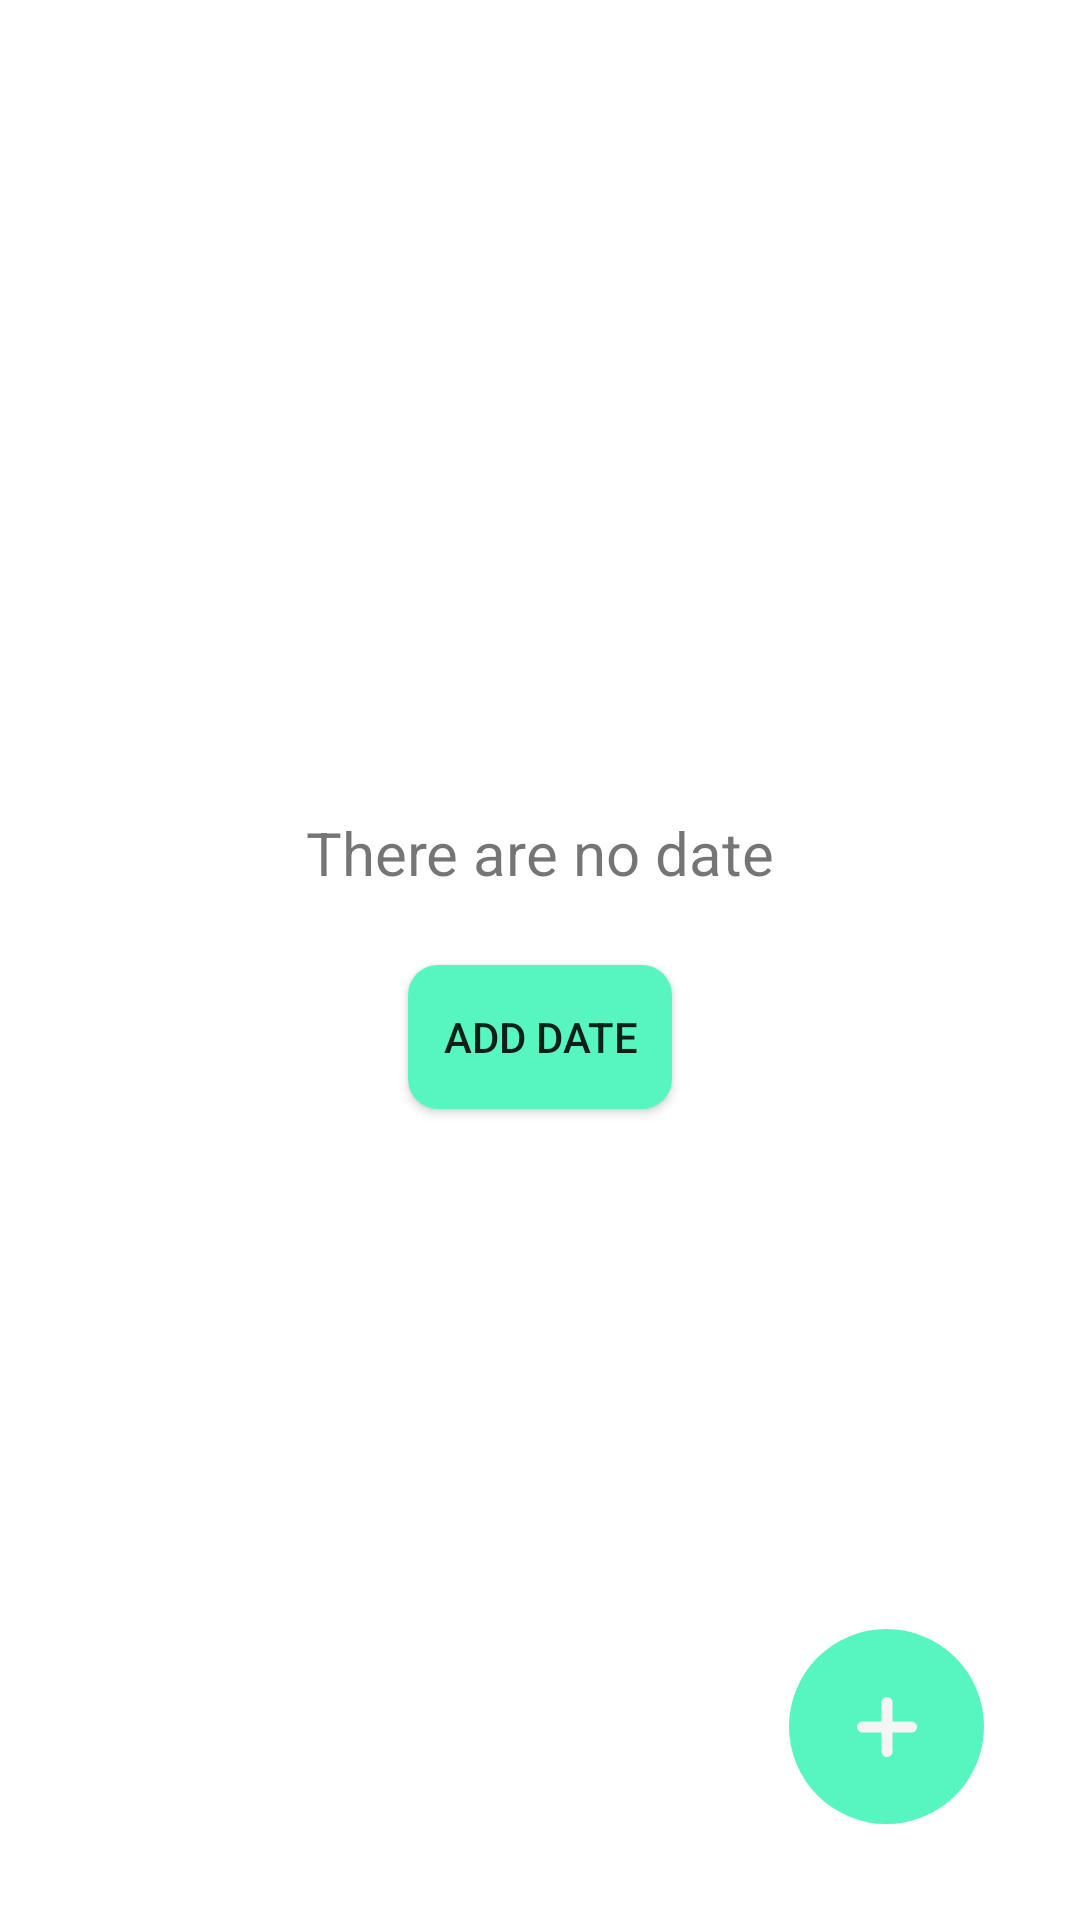

Locate icon controls on the screen. Image size 1080x1920, boxes as (x1, y1, x2, y2).
add: (789, 1629, 984, 1824)
